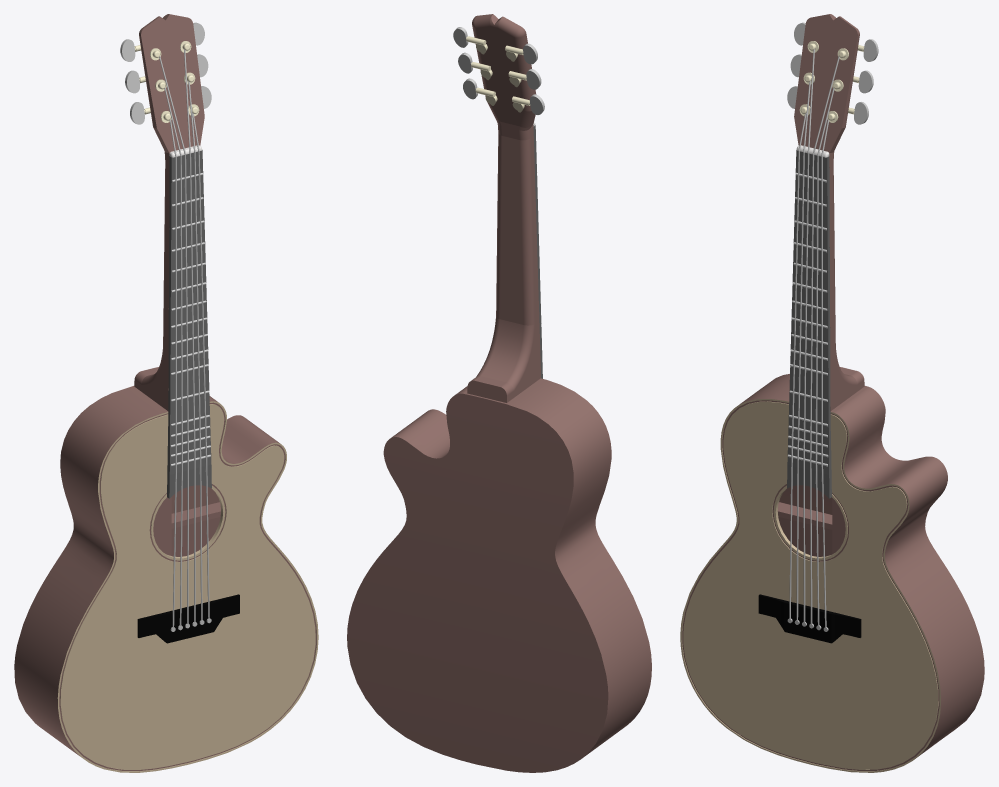
File: ac_guitar.fbx
3 views of the same model, side by side, from view 1: azimuth 30°, elevation 25°; view 2: azimuth 150°, elevation 25°; view 3: azimuth 330°, elevation 25° (orthographic).
Visible parts, largest first — view 1: Body; view 2: Body; view 3: Body.
Boxes of the visible parts, box(x1,y1,x2,y2) form: Body: box(14, 14, 318, 772); Body: box(347, 14, 651, 772); Body: box(680, 14, 984, 772).
Size of the model in its own units: 37.3 by 100 by 11.96.
